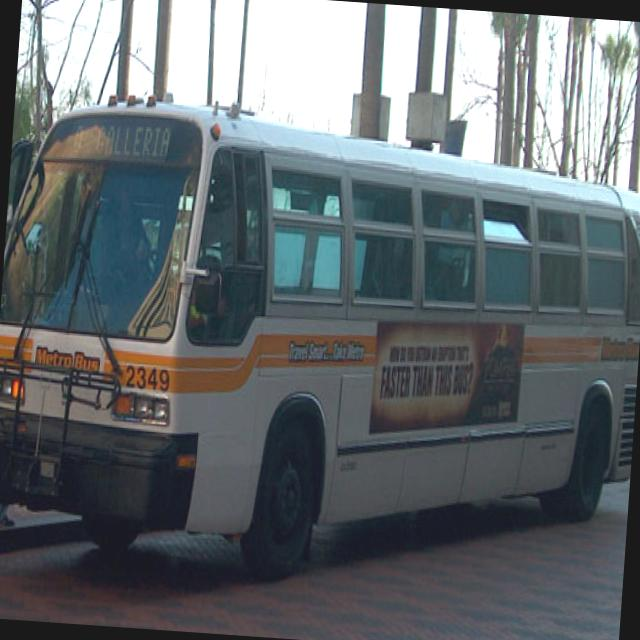Vehicle: (0, 77, 640, 607)
